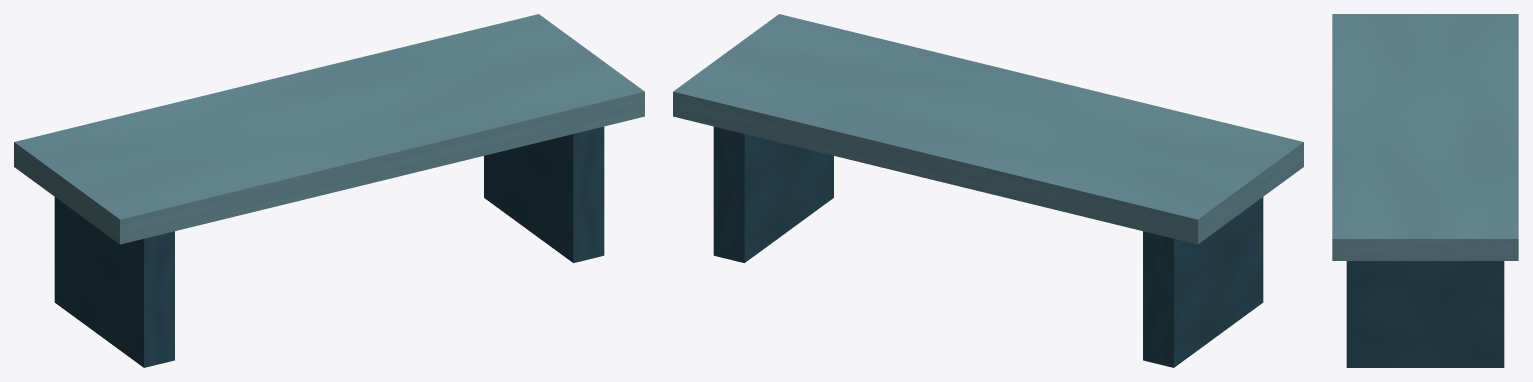
Rendered from atlas100-abyss-util03.lod2.glb.
3 views of the same model, side by side, from view 1: azimuth 30°, elevation 25°; view 2: azimuth 150°, elevation 25°; view 3: azimuth 270°, elevation 25° (orthographic). The views are drawn at different scales.
Visible parts, largest first — view 1: atlas100-abyss-util03:part-002, atlas100-abyss-util03:part-000, atlas100-abyss-util03:part-001; view 2: atlas100-abyss-util03:part-002, atlas100-abyss-util03:part-000, atlas100-abyss-util03:part-001; view 3: atlas100-abyss-util03:part-002, atlas100-abyss-util03:part-001.
Boxes of the visible parts, <box> form: atlas100-abyss-util03:part-002: <box>14,14,644,244</box>; atlas100-abyss-util03:part-000: <box>54,197,174,367</box>; atlas100-abyss-util03:part-001: <box>484,126,604,262</box>; atlas100-abyss-util03:part-002: <box>673,14,1303,244</box>; atlas100-abyss-util03:part-000: <box>1143,197,1263,367</box>; atlas100-abyss-util03:part-001: <box>713,126,833,262</box>; atlas100-abyss-util03:part-002: <box>1332,14,1518,260</box>; atlas100-abyss-util03:part-001: <box>1346,261,1504,367</box>.
Size of the model in its own units: 2.45 by 0.7247 by 0.8586.
Materials: 2 (2 with a texture image).
